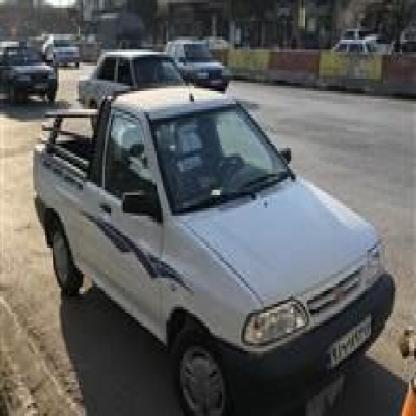Car: (31, 96, 394, 416), (80, 52, 192, 120), (164, 31, 236, 94), (0, 36, 62, 103), (42, 29, 83, 72)
